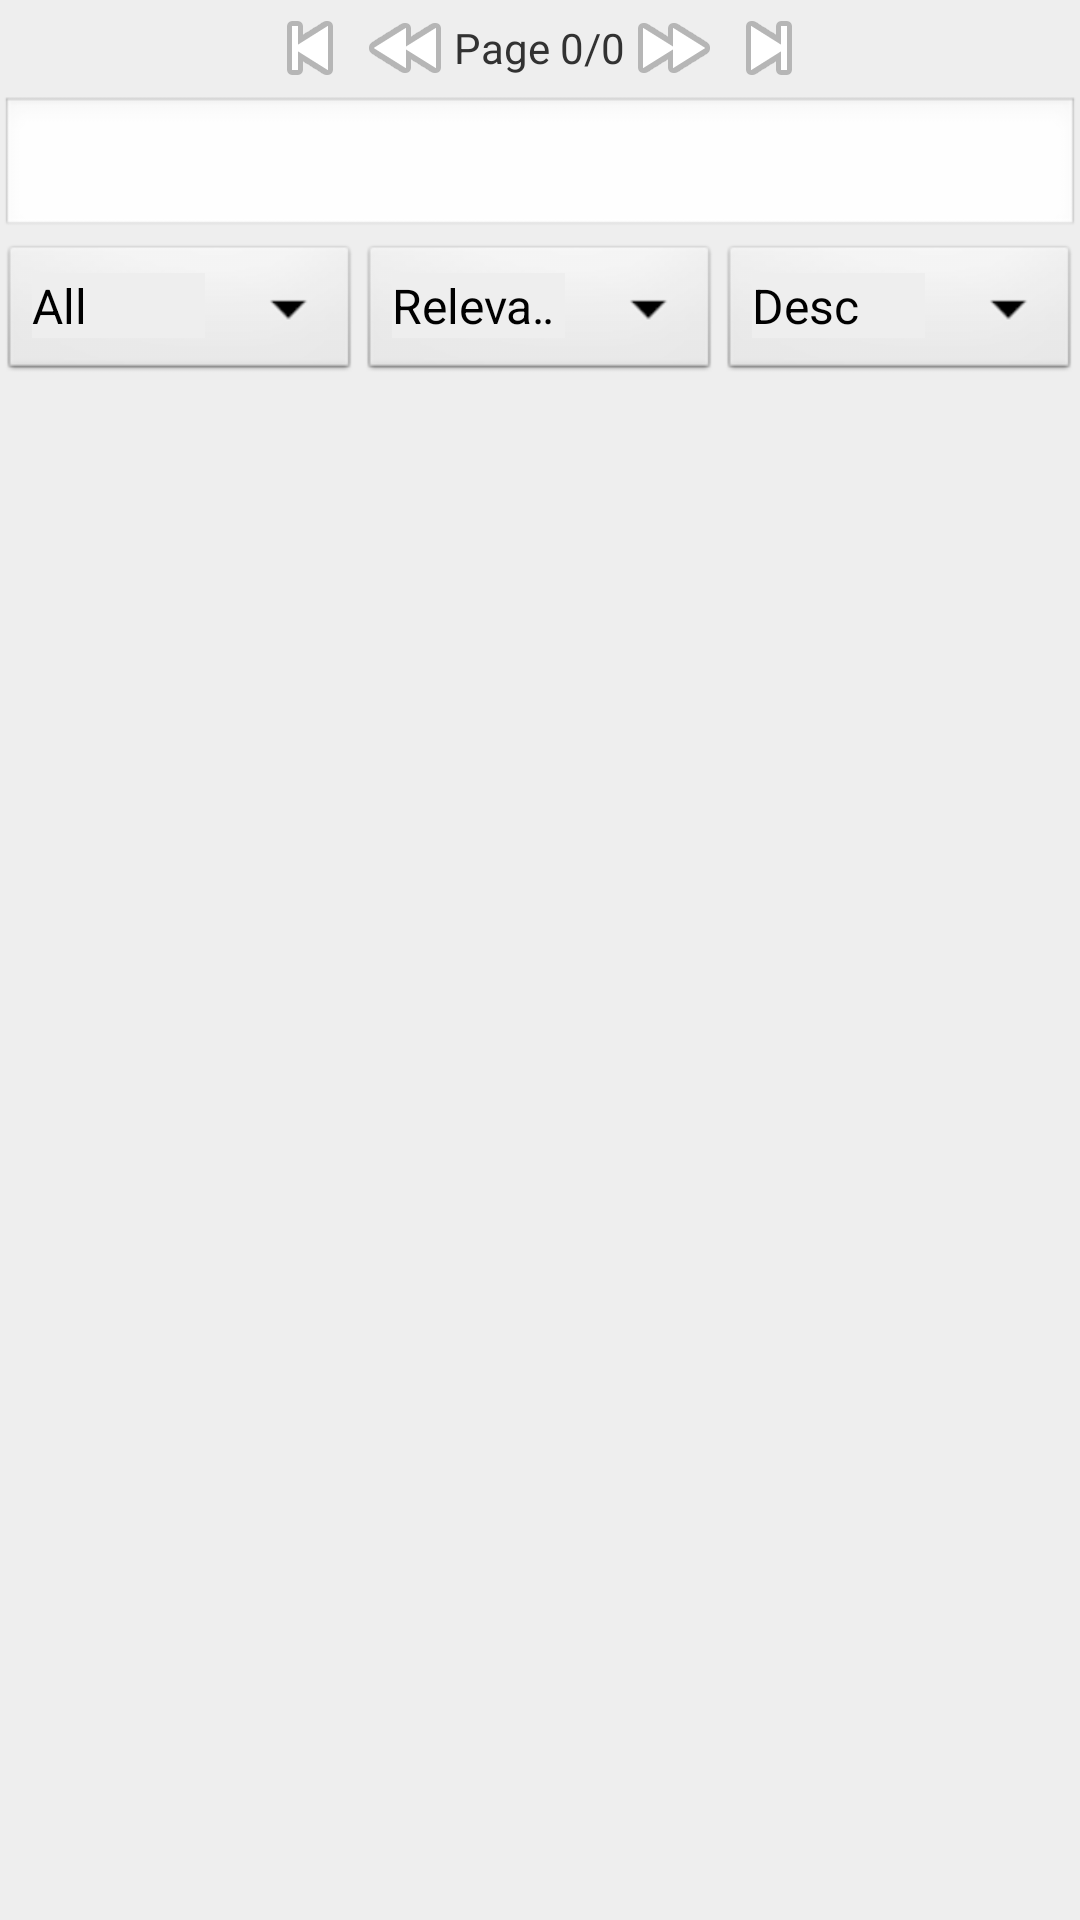

Where to tap for icons on this 1080 × 1920 app screen, as (x,y):
First: (310,48)
Last: (769,48)
Next: (674,48)
Previous: (405,48)
